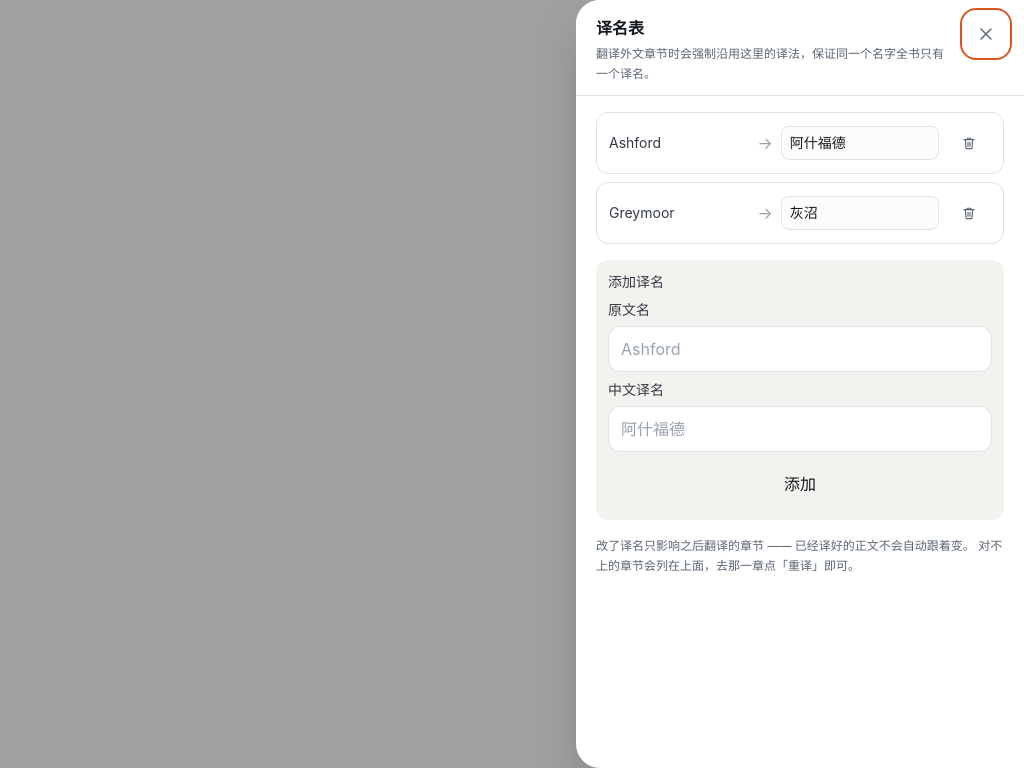
Test: 改译名 › 清空译名时拦下，并指向删除
The image size is (1024, 768).
Step 1. Clear the field named "Ashford 的译名" → {"x": 860, "y": 143}, box [781,126,939,160]
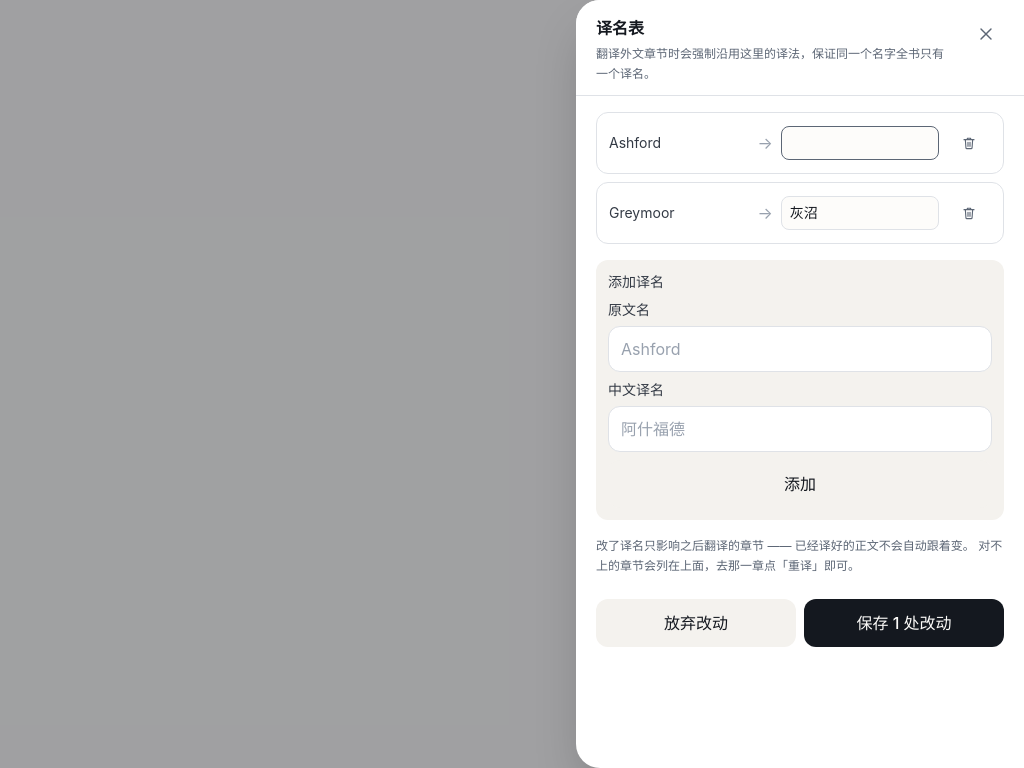
Step 2. Click the button "保存 1 处改动" → {"x": 904, "y": 623}, box [804,599,1004,647]
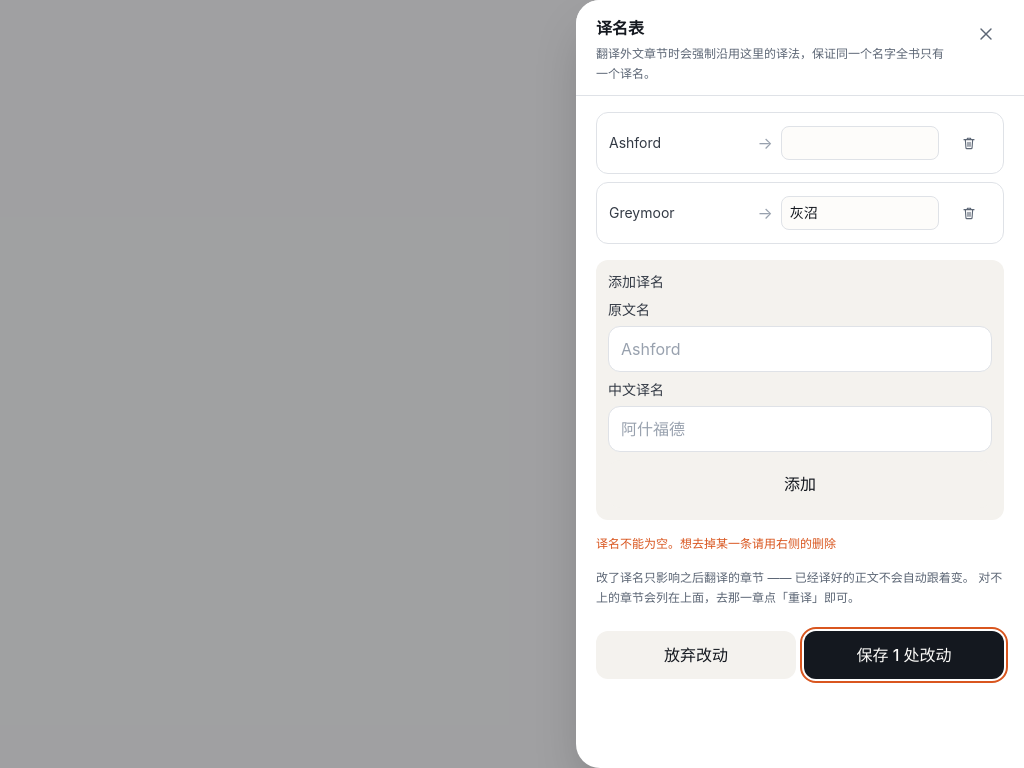
Check: the message shows "译名不能为空", box [596,536,836,551]
